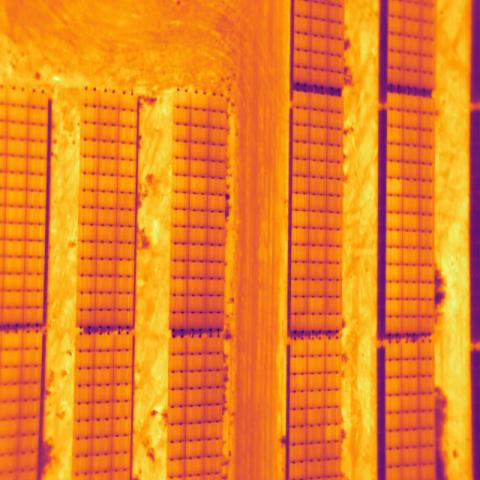fault: (386, 178, 404, 198), (324, 424, 342, 442)
